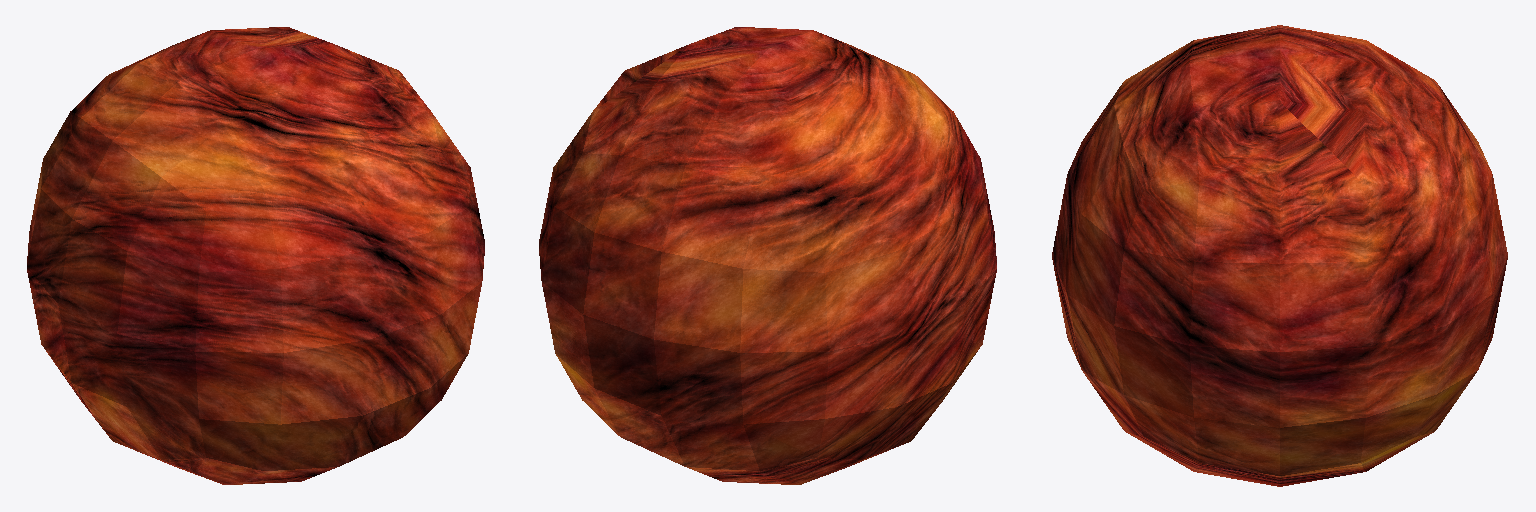
The picture shows the model from 3 angles: view 1: azimuth 30°, elevation 25°; view 2: azimuth 150°, elevation 25°; view 3: azimuth 270°, elevation 25°; orthographic projection.
Parts seen in each view (by area): view 1: Cube; view 2: Cube; view 3: Cube.
Boxes of the visible parts, x1,y1,x2,y2 form: Cube: [27, 27, 484, 484]; Cube: [539, 27, 996, 484]; Cube: [1052, 25, 1507, 486].
Size of the model in its own units: 7.27 by 7.27 by 7.27.
Materials: 1 (1 with a texture image).